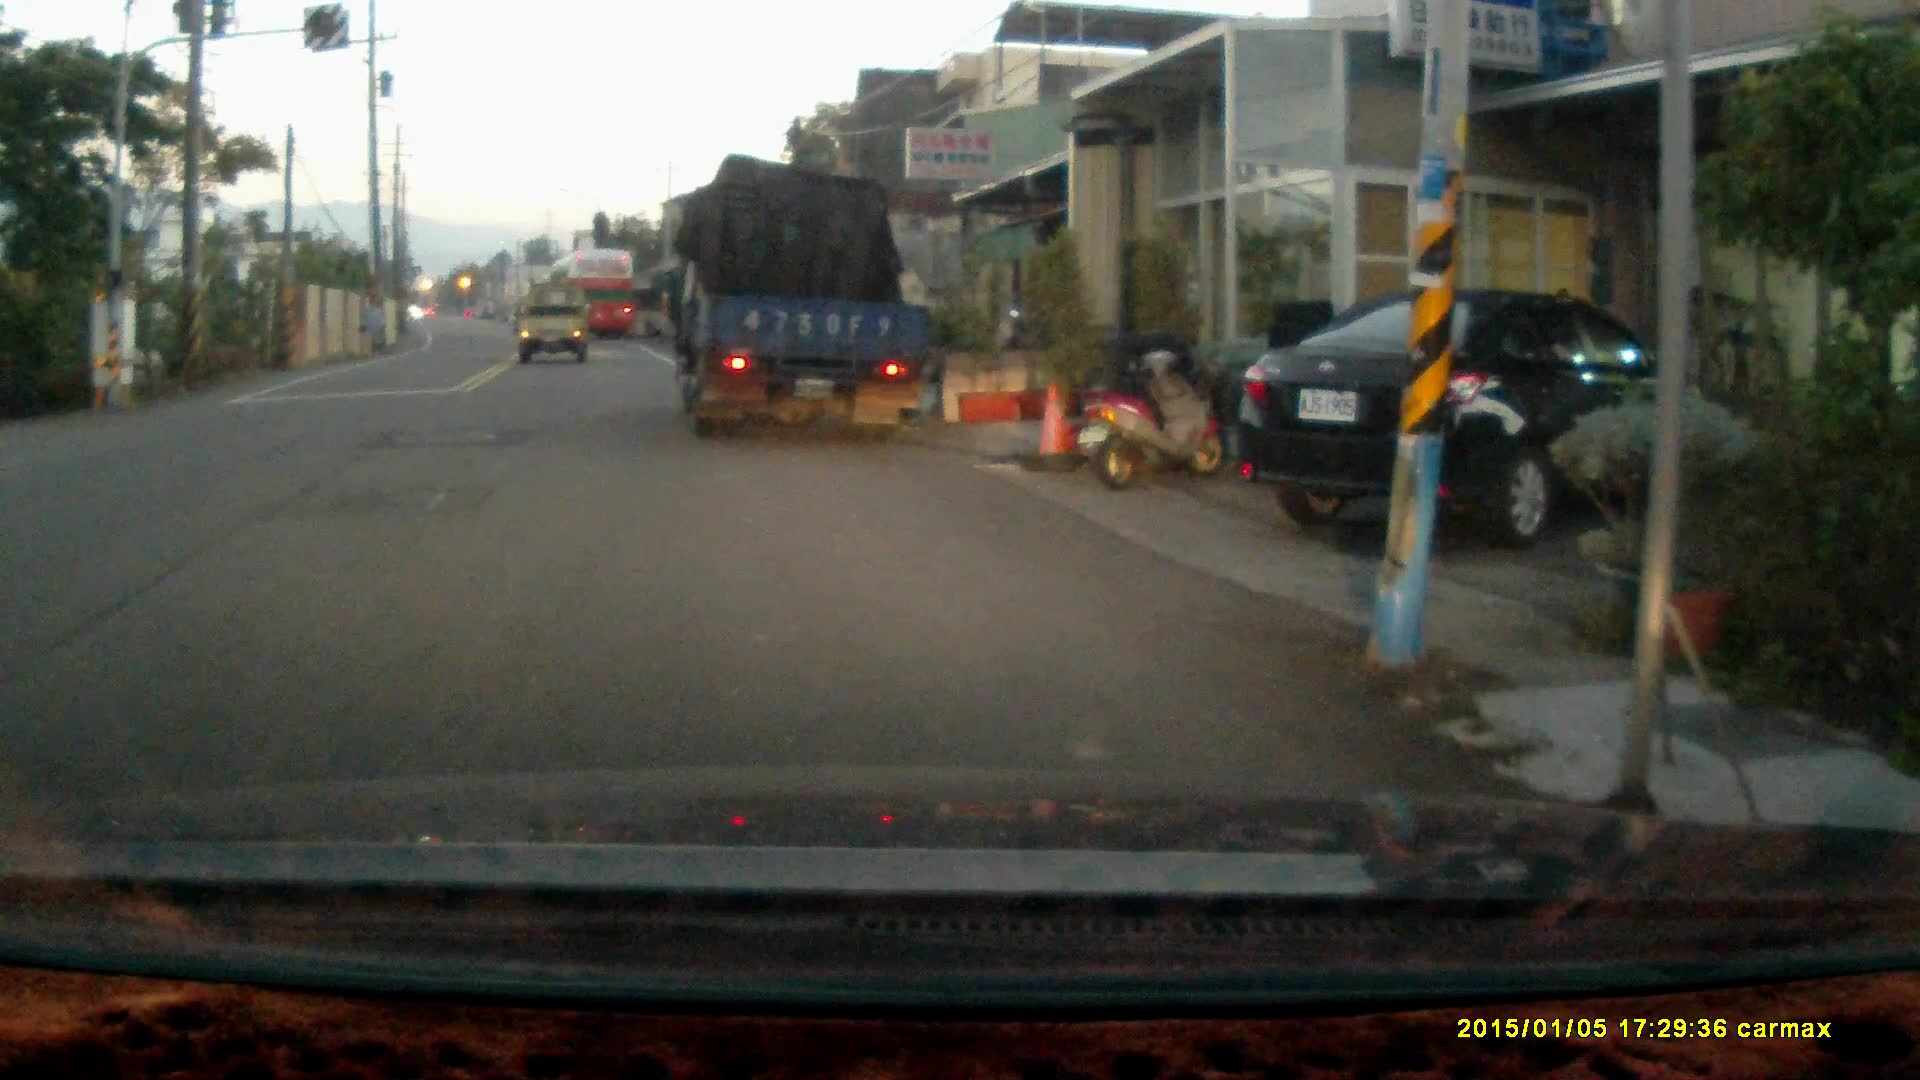vehicle: (1228, 284, 1722, 547), (666, 164, 942, 435), (546, 248, 644, 345), (516, 291, 589, 369)
